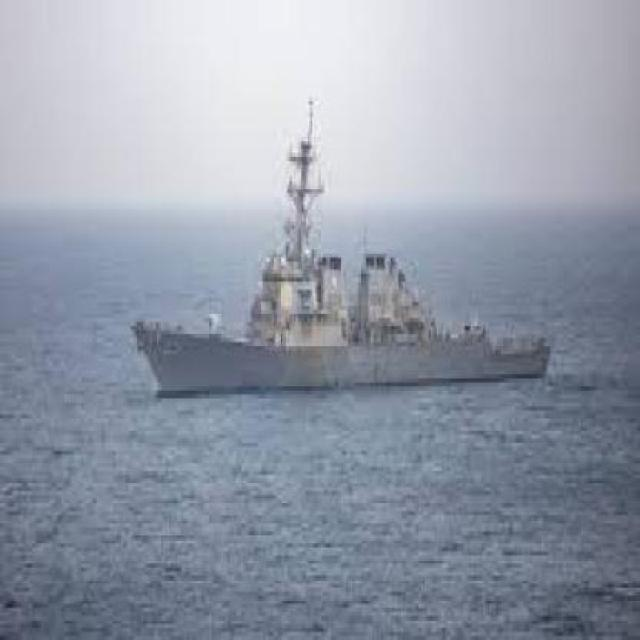warship2: (117, 98, 559, 444)
